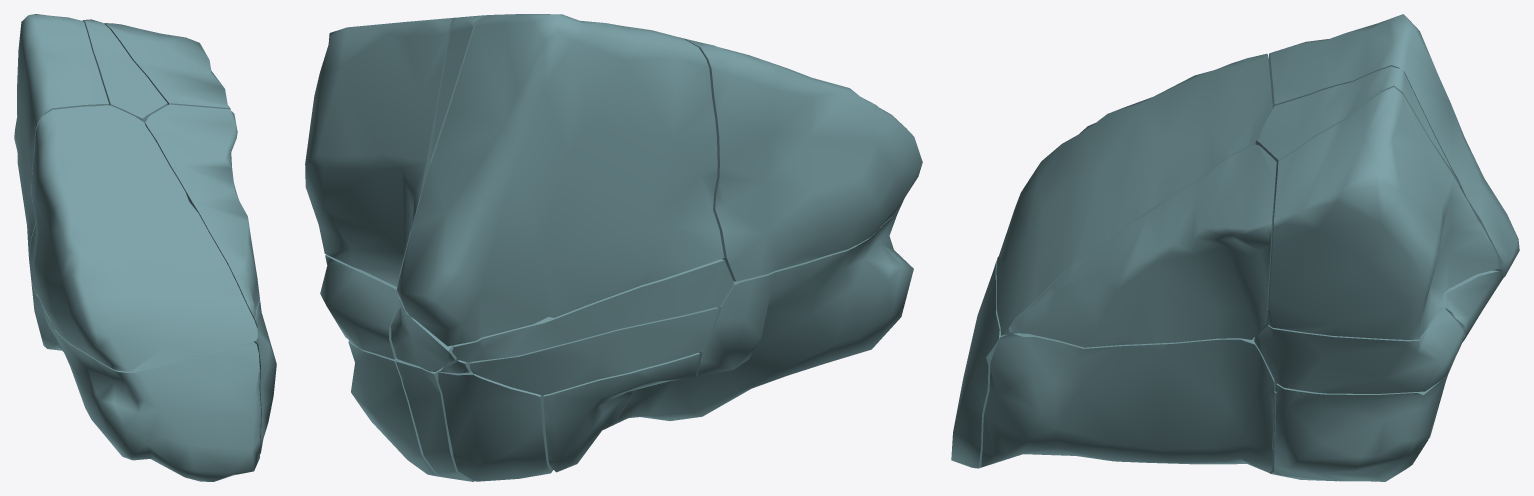
Rendered from sallyhands_001_palm.fbx.
The picture shows the model from 3 angles, left to right: view 1: azimuth 30°, elevation 25°; view 2: azimuth 150°, elevation 25°; view 3: azimuth 270°, elevation 25°; orthographic projection. The views are drawn at different scales.
Parts seen in each view (by area): view 1: sally-hands-001_left.001_cell.017, sally-hands-001_left.001_cell.018, sally-hands-001_left.001_cell.014, sally-hands-001_left.001_cell.002, sally-hands-001_left.001_cell.006, sally-hands-001_left.001_cell.008, sally-hands-001_left.001_cell.003; view 2: sally-hands-001_left.001_cell.002, sally-hands-001_left.001_cell.017, sally-hands-001_left.001_cell.006, sally-hands-001_left.001_cell.018, sally-hands-001_left.001_cell.015, sally-hands-001_left.001_cell.013, sally-hands-001_left.001_cell.010, sally-hands-001_left.001_cell.012, sally-hands-001_left.001_cell.005, sally-hands-001_left.001_cell.004, sally-hands-001_left.001_cell, sally-hands-001_left.001_cell.007 (+1 smaller); view 3: sally-hands-001_left.001_cell.006, sally-hands-001_left.001_cell.003, sally-hands-001_left.001_cell.014, sally-hands-001_left.001_cell.017, sally-hands-001_left.001_cell.002, sally-hands-001_left.001_cell.004, sally-hands-001_left.001_cell.005, sally-hands-001_left.001_cell.008, sally-hands-001_left.001_cell.018, sally-hands-001_left.001_cell.007.
Part boxes in pixels (x1,y1,x2,y2): sally-hands-001_left.001_cell.017: (29, 105, 257, 371); sally-hands-001_left.001_cell.018: (31, 281, 260, 481); sally-hands-001_left.001_cell.014: (145, 104, 259, 327); sally-hands-001_left.001_cell.002: (14, 14, 108, 256); sally-hands-001_left.001_cell.006: (104, 23, 230, 109); sally-hands-001_left.001_cell.008: (82, 19, 167, 124); sally-hands-001_left.001_cell.003: (254, 300, 276, 453); sally-hands-001_left.001_cell.002: (397, 14, 724, 346); sally-hands-001_left.001_cell.017: (683, 38, 922, 281); sally-hands-001_left.001_cell.006: (305, 17, 456, 286); sally-hands-001_left.001_cell.018: (610, 205, 913, 426); sally-hands-001_left.001_cell.015: (469, 307, 719, 395); sally-hands-001_left.001_cell.013: (438, 371, 553, 481); sally-hands-001_left.001_cell.010: (452, 259, 734, 362); sally-hands-001_left.001_cell.012: (543, 352, 700, 472); sally-hands-001_left.001_cell.005: (320, 254, 400, 359); sally-hands-001_left.001_cell.004: (348, 340, 446, 477); sally-hands-001_left.001_cell: (396, 359, 474, 481); sally-hands-001_left.001_cell.007: (391, 295, 456, 371); sally-hands-001_left.001_cell.006: (1268, 87, 1498, 339); sally-hands-001_left.001_cell.003: (981, 333, 1274, 472); sally-hands-001_left.001_cell.014: (1011, 144, 1276, 347); sally-hands-001_left.001_cell.017: (996, 53, 1272, 335); sally-hands-001_left.001_cell.002: (1268, 14, 1519, 277); sally-hands-001_left.001_cell.004: (1274, 361, 1453, 481); sally-hands-001_left.001_cell.005: (1254, 307, 1463, 393); sally-hands-001_left.001_cell.008: (1255, 66, 1459, 309); sally-hands-001_left.001_cell.018: (951, 260, 1107, 468); sally-hands-001_left.001_cell.007: (1441, 270, 1503, 354).
Size of the model in its own units: 0.3994 by 0.515 by 0.6151.
